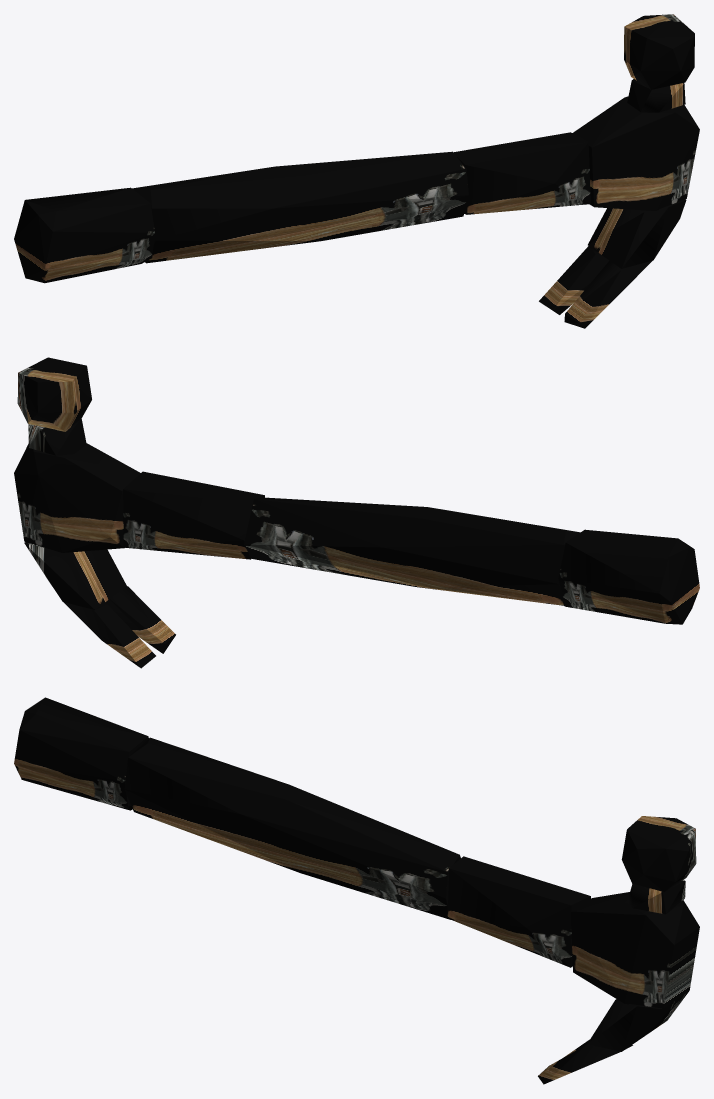
The model's file is collision_vhacd.obj.
3 views of the same model, one above another, from view 1: azimuth 30°, elevation 25°; view 2: azimuth 150°, elevation 25°; view 3: azimuth 330°, elevation 25° (orthographic).
Bounding box in the file's own units: 0.3337 × 0.1286 × 0.0342.
Materials: 1 (1 with a texture image).
